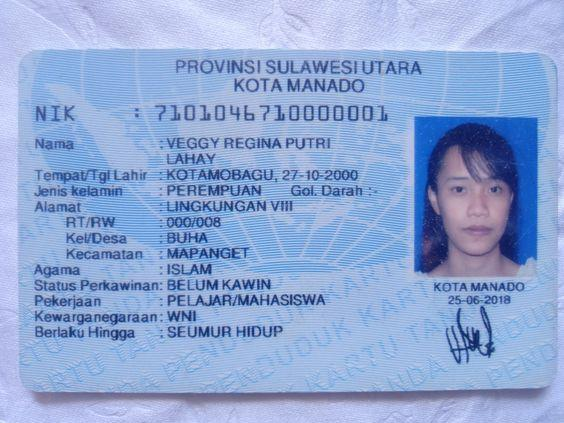ID-card: (22, 50, 553, 386)
